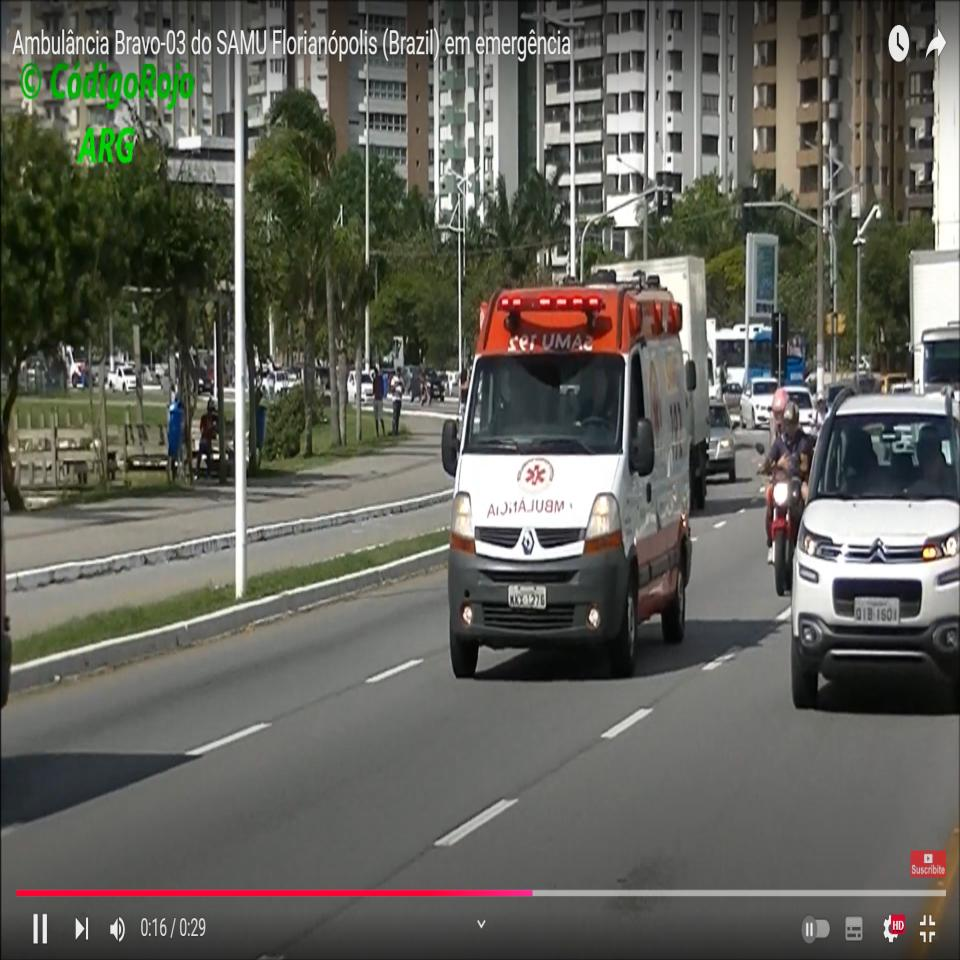bombeiro: (438, 270, 697, 677)
